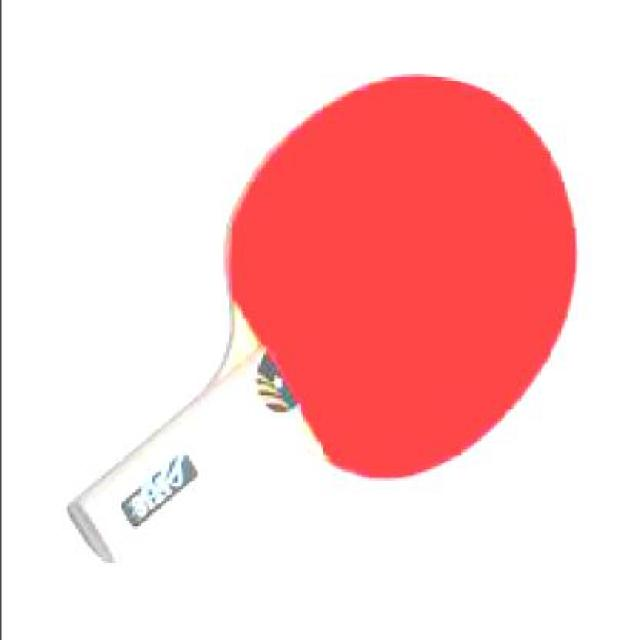table_tennis_racket: (68, 75, 578, 565)
